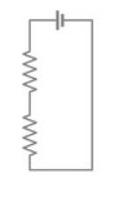resistor: (13, 108, 42, 161), (19, 44, 45, 93)
